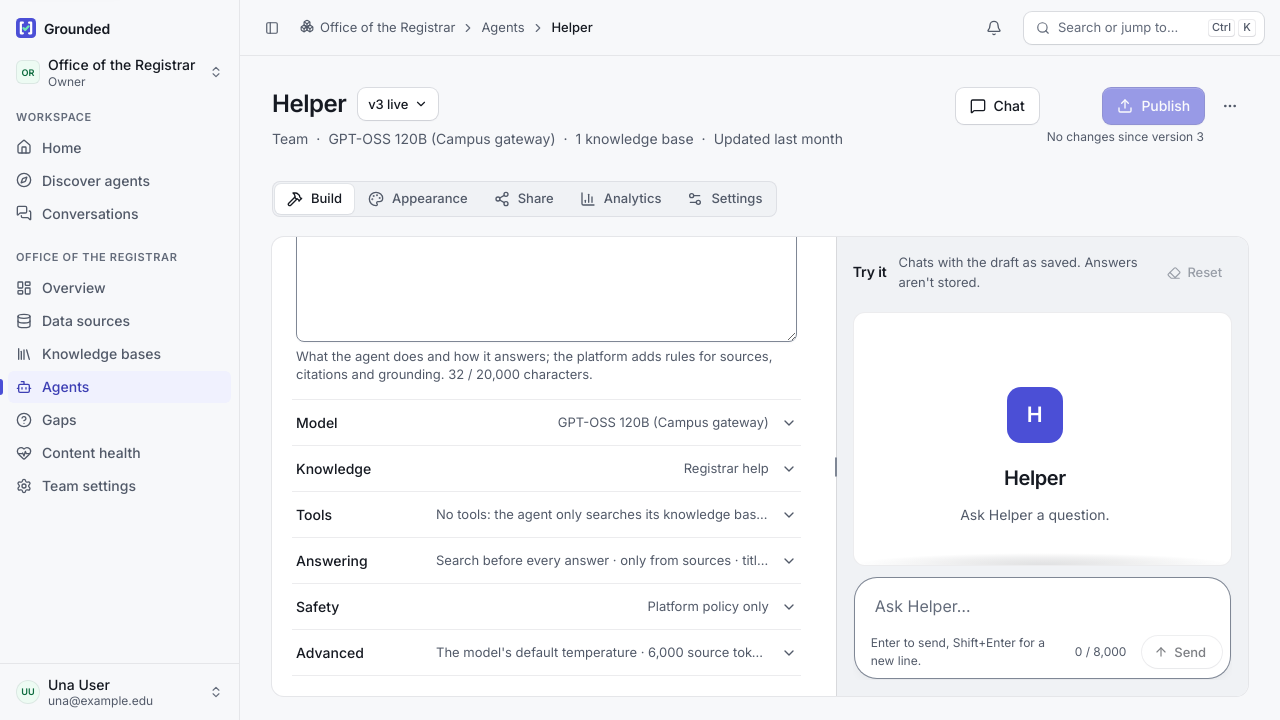
Test: Build › Reasoning effort says why it can't be chosen until the model accepts it
This screenshot has width=1280, height=720.
(page scrolled)
Click the button "Advanced": click(546, 653) top-left (292, 630), bottom-right (801, 675)
(page scrolled)
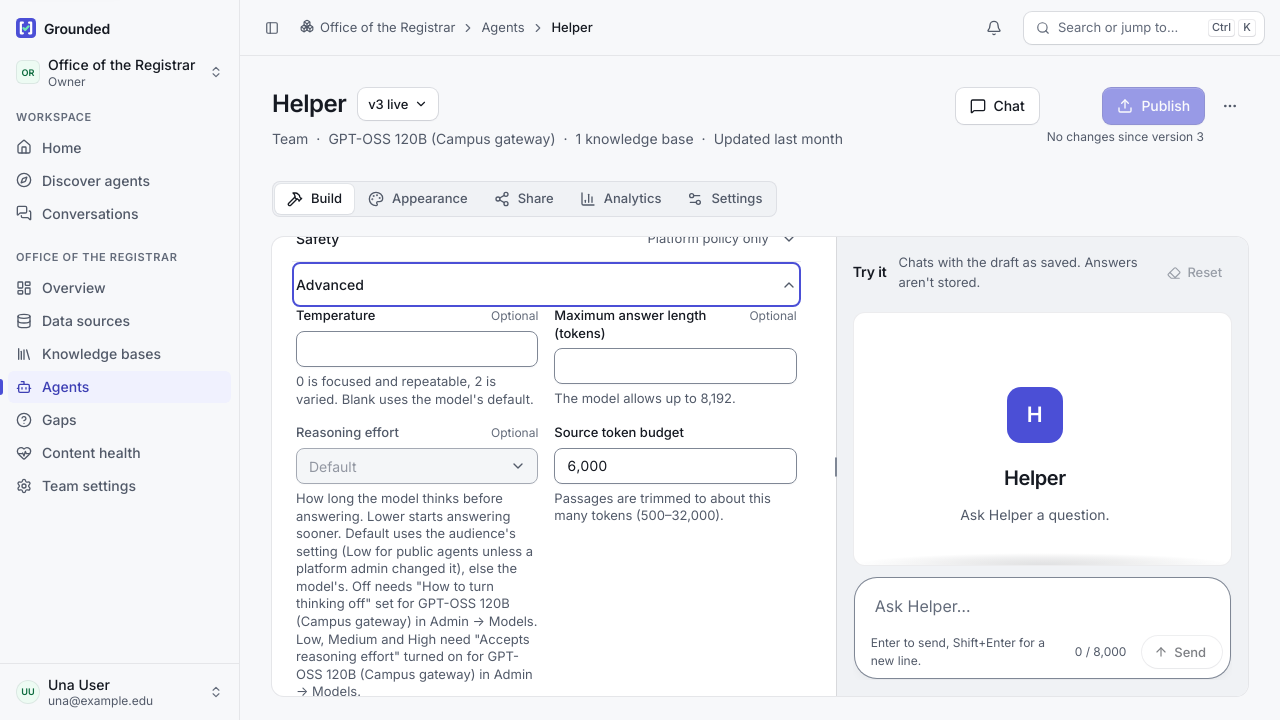
Check: the dropdown labelled "Reasoning effort" is disabled, box top-left (296, 448), bottom-right (538, 484)
